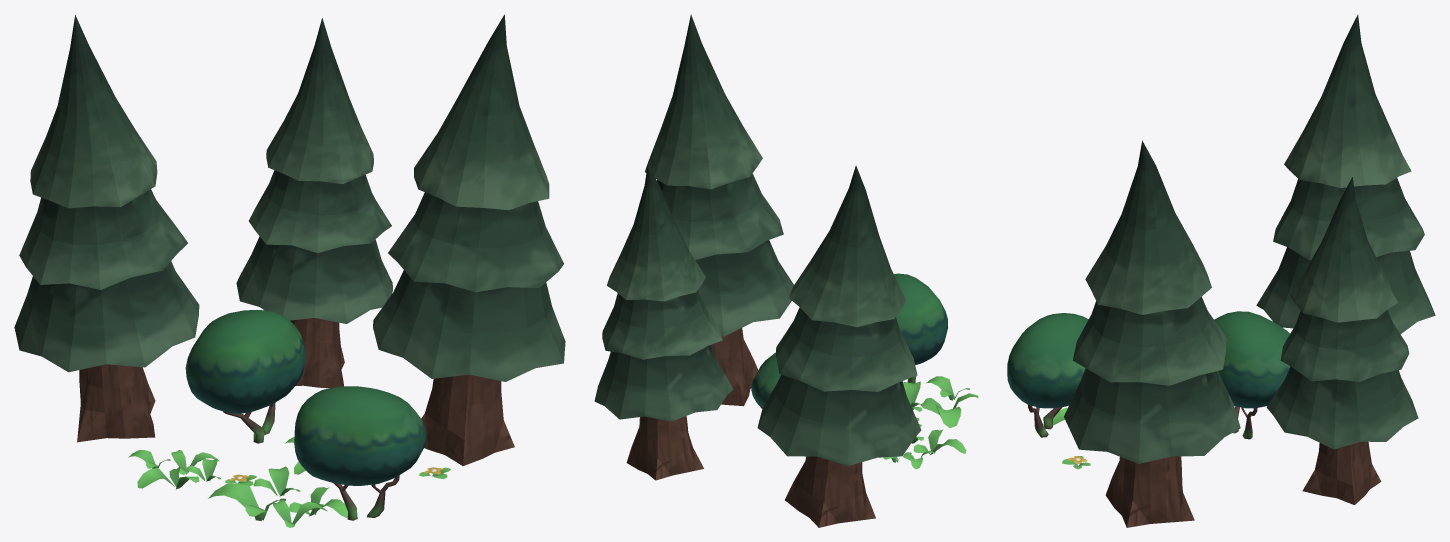
The model's file is Forest_01.fbx.
3 views of the same model, side by side, from view 1: azimuth 30°, elevation 25°; view 2: azimuth 150°, elevation 25°; view 3: azimuth 270°, elevation 25° (orthographic). The views are drawn at different scales.
Visible parts, largest first — view 1: Forest_01; view 2: Forest_01; view 3: Forest_01.
Part boxes in pixels (<box>): Forest_01: <box>14,14,565,527</box>; Forest_01: <box>594,14,978,527</box>; Forest_01: <box>1007,15,1435,527</box>.
Bounding box in the file's own units: 968 × 943 × 945.
